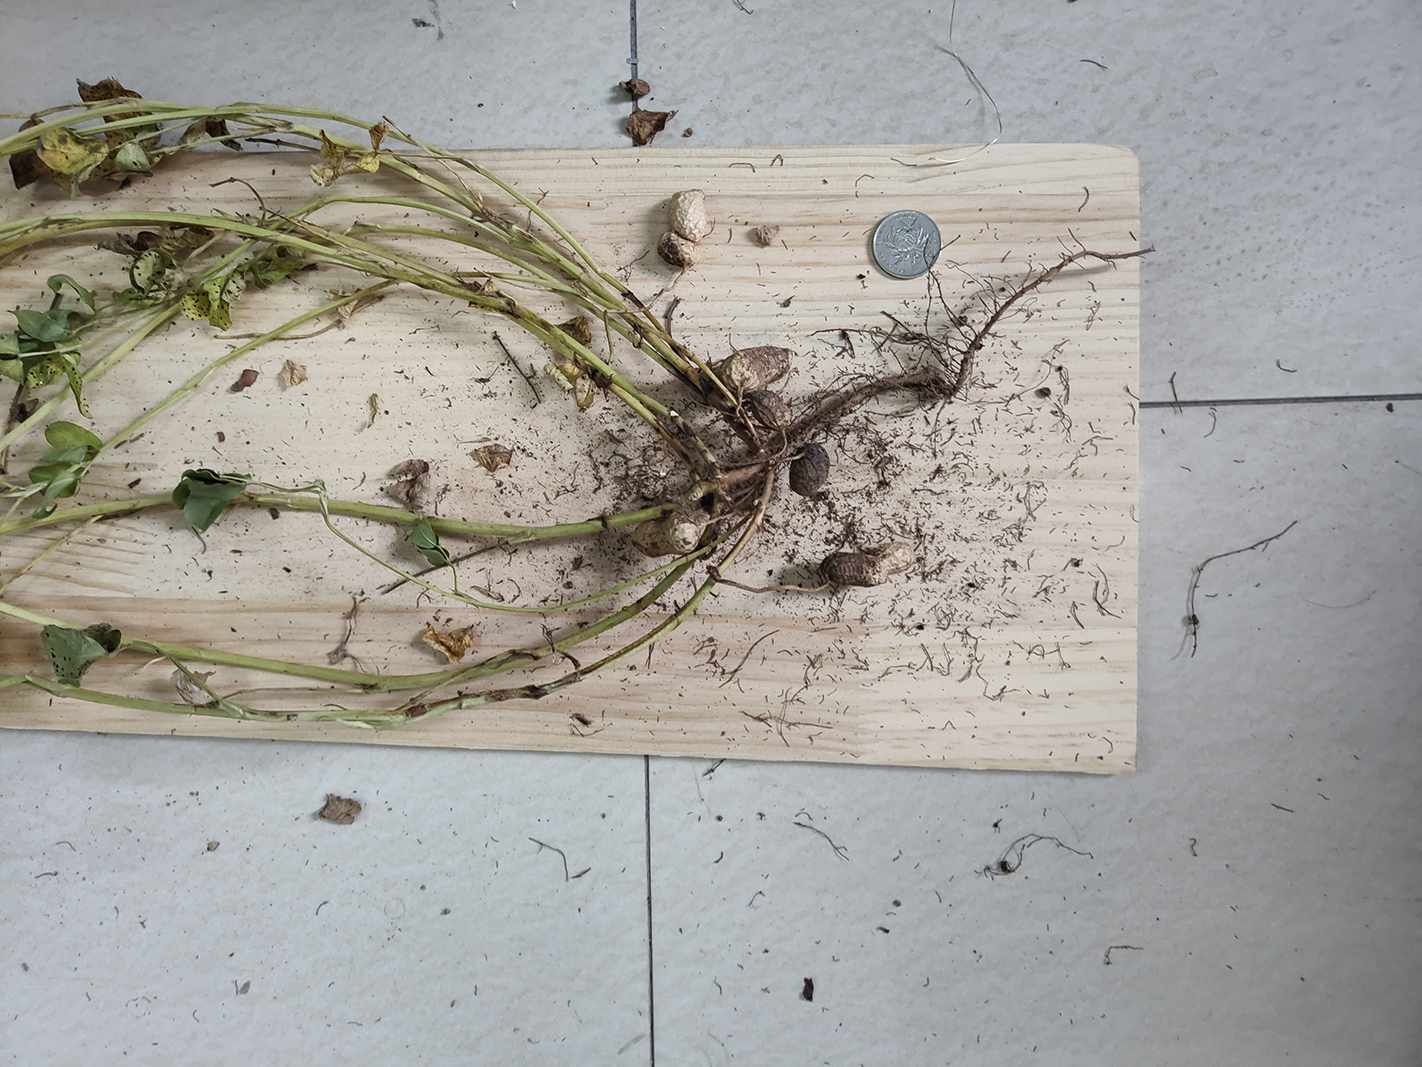h: (658, 188, 707, 269), (632, 521, 701, 553)
l: (723, 345, 799, 391), (822, 549, 907, 586), (789, 445, 830, 497), (753, 390, 794, 427)
